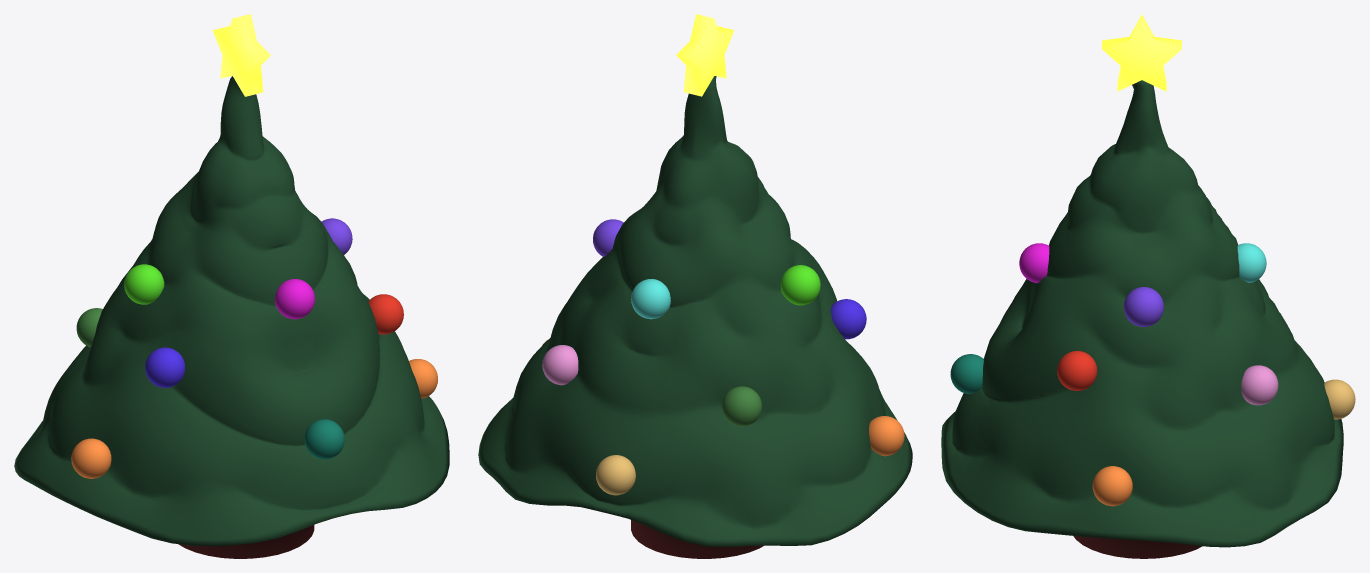
Rendered from asset.gltf.
3 views of the same model, side by side, from view 1: azimuth 30°, elevation 25°; view 2: azimuth 150°, elevation 25°; view 3: azimuth 270°, elevation 25° (orthographic).
Parts seen in each view (by area): view 1: Cone_0, Star_14, Cylinder_1, Sphere.011_12, Sphere.007_8, Sphere.005_6, Sphere.003_4, Sphere.001_2, Sphere.004_5, Sphere.010_11, Sphere_13, Sphere.009_10; view 2: Cone_0, Star_14, Cylinder_1, Sphere.009_10, Sphere.008_9, Sphere.001_2, Sphere.002_3, Sphere.006_7, Sphere.011_12, Sphere.005_6, Sphere_13; view 3: Cone_0, Star_14, Cylinder_1, Sphere.010_11, Sphere.004_5, Sphere_13, Sphere.006_7, Sphere.007_8, Sphere.003_4, Sphere.002_3, Sphere.008_9.
Part boxes in pixels (box(x1,y1,x2,y2)): Cone_0: box(14, 76, 449, 546); Star_14: box(212, 14, 270, 96); Cylinder_1: box(178, 525, 314, 558); Sphere.011_12: box(71, 438, 111, 478); Sphere.007_8: box(304, 419, 344, 459); Sphere.005_6: box(145, 347, 185, 387); Sphere.003_4: box(275, 279, 314, 319); Sphere.001_2: box(124, 264, 164, 304); Sphere.004_5: box(368, 294, 403, 334); Sphere.010_11: box(409, 359, 437, 398); Sphere_13: box(321, 218, 352, 254); Sphere.009_10: box(76, 308, 102, 347); Cone_0: box(478, 76, 912, 546); Star_14: box(676, 14, 734, 96); Cylinder_1: box(631, 520, 763, 558); Sphere.009_10: box(722, 386, 761, 426); Sphere.008_9: box(596, 455, 635, 495); Sphere.001_2: box(780, 265, 820, 305); Sphere.002_3: box(631, 279, 670, 319); Sphere.006_7: box(542, 345, 578, 385); Sphere.011_12: box(869, 416, 904, 456); Sphere.005_6: box(830, 299, 866, 339); Sphere_13: box(593, 219, 623, 256); Cone_0: box(941, 80, 1343, 547); Star_14: box(1102, 14, 1181, 91); Cylinder_1: box(1073, 536, 1202, 558); Sphere.010_11: box(1092, 466, 1132, 506); Sphere.004_5: box(1057, 351, 1097, 390); Sphere_13: box(1123, 287, 1163, 326); Sphere.006_7: box(1241, 365, 1278, 405); Sphere.007_8: box(950, 354, 983, 393); Sphere.003_4: box(1019, 243, 1049, 283); Sphere.002_3: box(1237, 243, 1266, 282); Sphere.008_9: box(1324, 379, 1355, 419).
Bounding box in the file's own units: 5.98 × 7.61 × 5.61.
